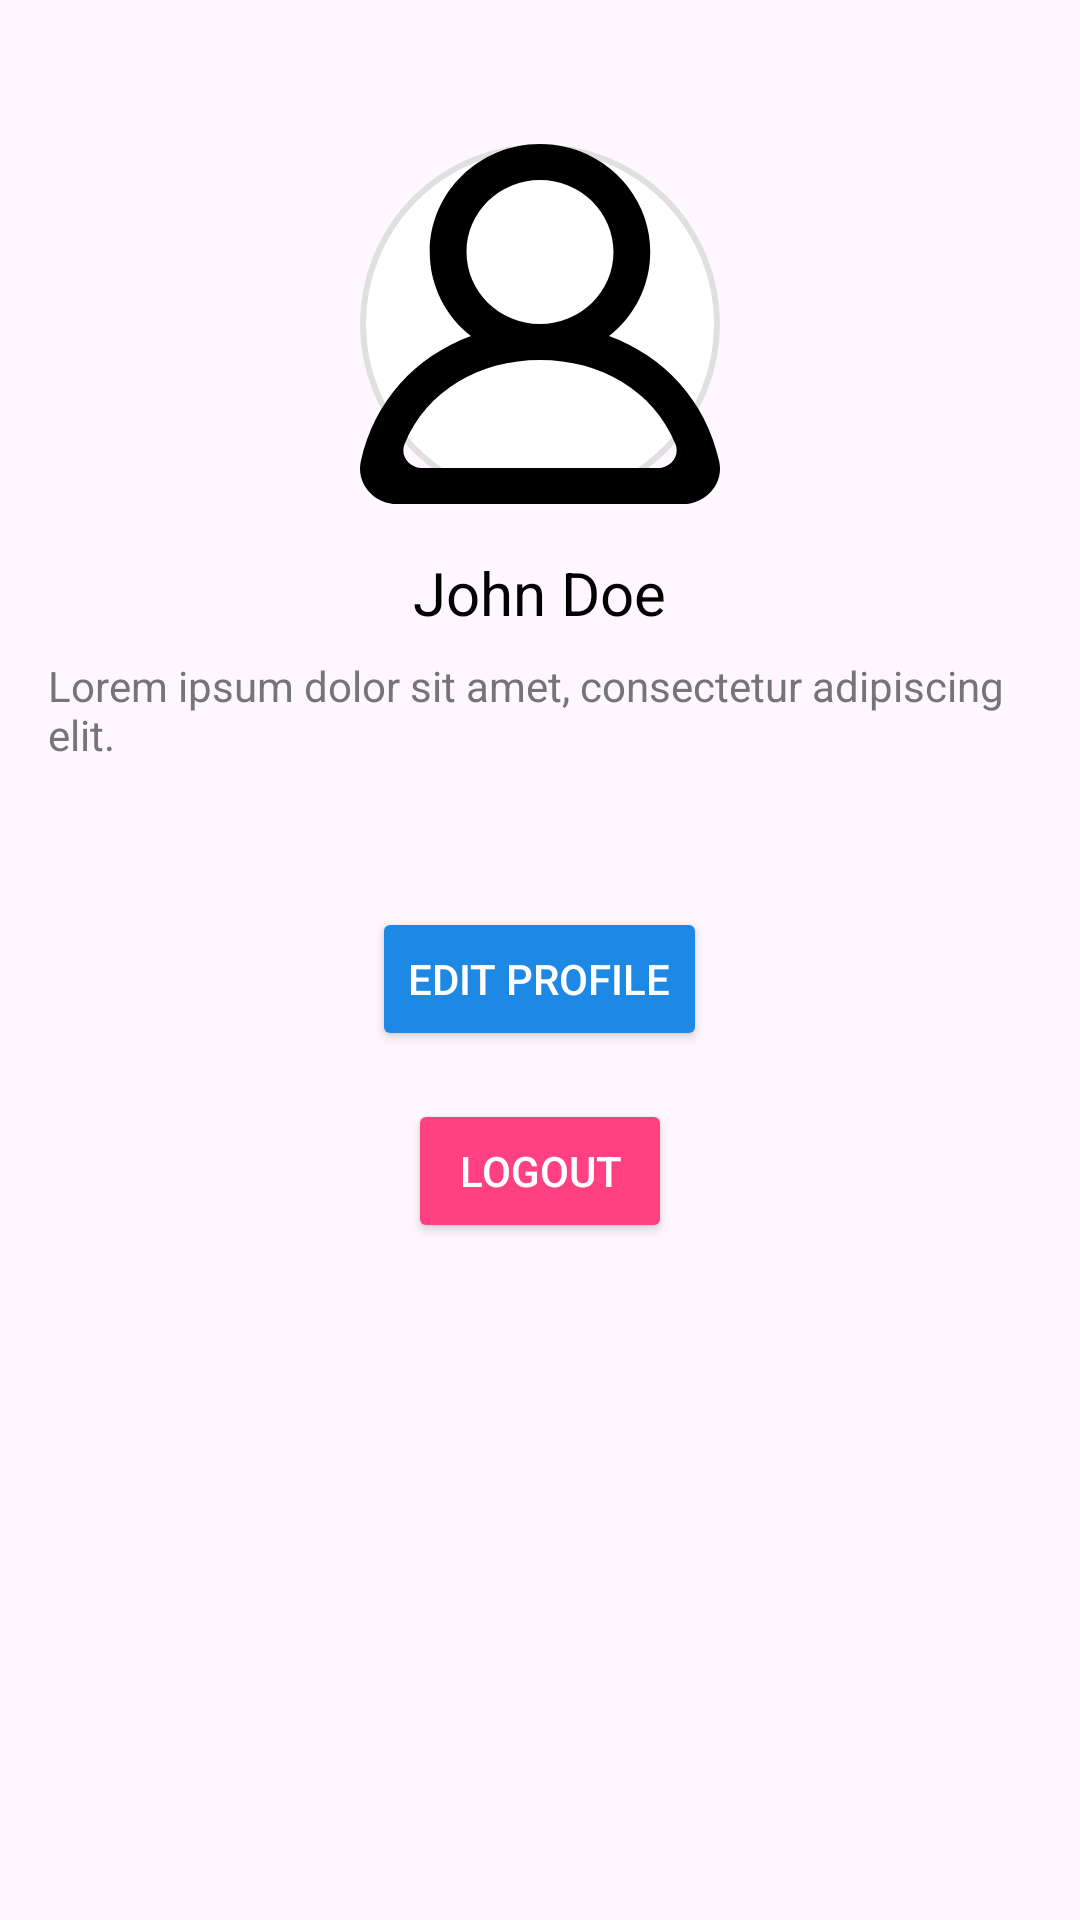

Icons on this 1080w x 1920h Android screen, each with its box as (x1, y1, x2, y2):
Profile Image: (360, 144, 720, 504)
